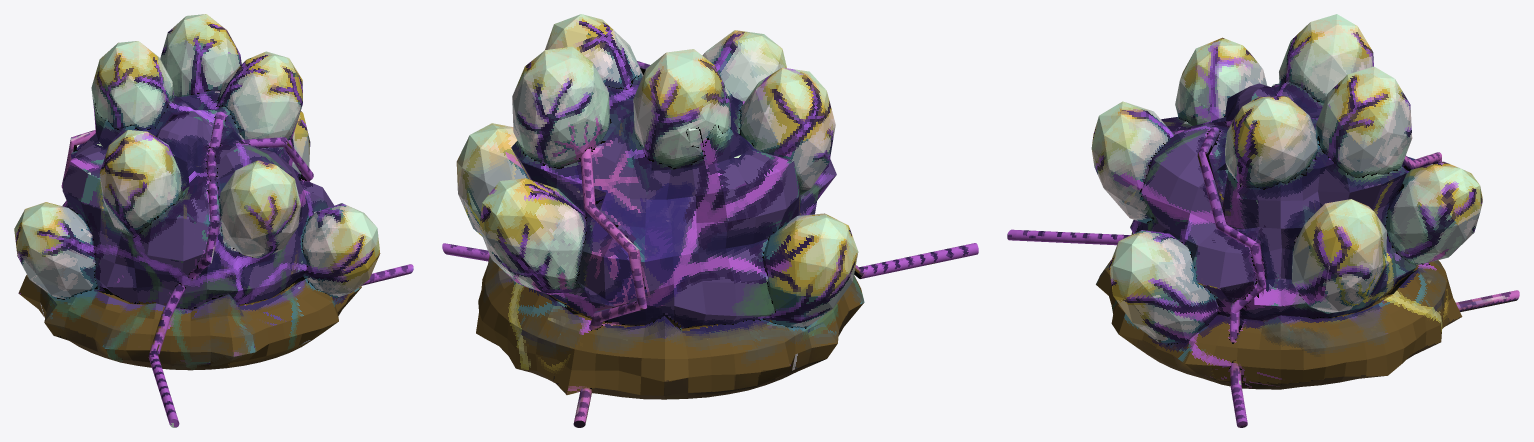
File: egg_clutch.glb
3 renders of one model, left to right at view 1: azimuth 30°, elevation 25°; view 2: azimuth 150°, elevation 25°; view 3: azimuth 270°, elevation 25°, orthographic. The views are drawn at different scales.
Visible parts, largest first — view 1: Cylinder; view 2: Cylinder; view 3: Cylinder.
Part boxes in pixels (<box>): Cylinder: <box>14,14,413,427</box>; Cylinder: <box>442,14,978,427</box>; Cylinder: <box>1007,14,1519,427</box>.
Bounding box in the file's own units: 46.46 × 33.95 × 51.02.
Materials: 1 (1 with a texture image).
